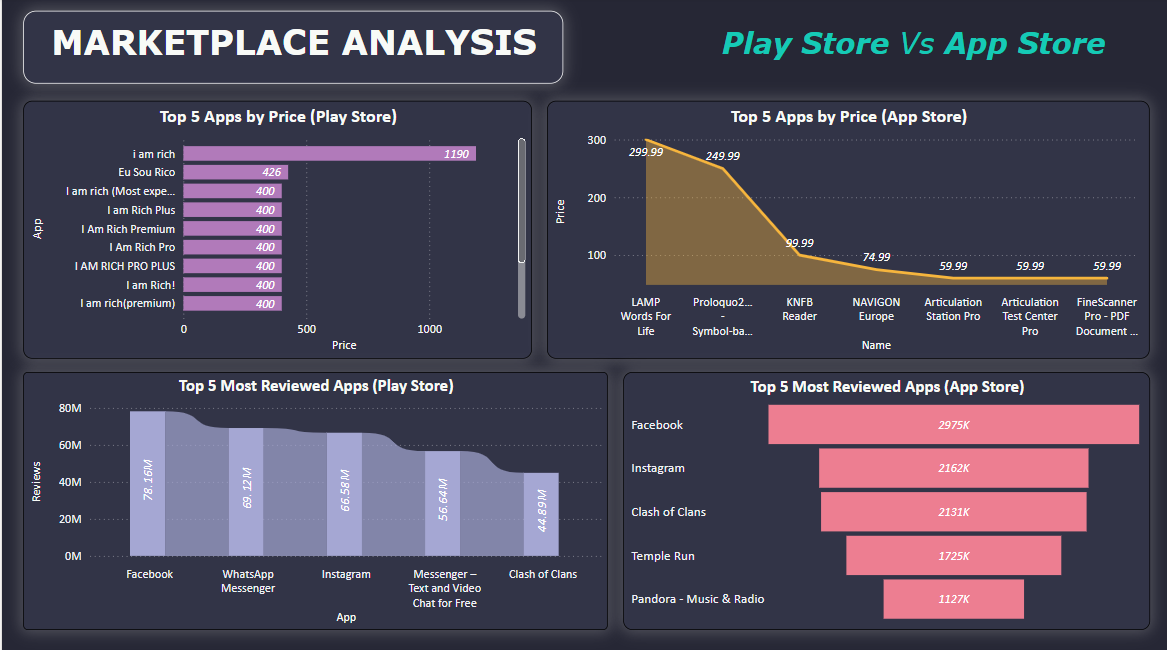

The page's visual inventory and layout, read from the dashboard file:
{"tool":"powerbi","page":{"name":"MarketPlace Analysis","canvas":[1280,720],"ordinal":2},"visuals":[{"type":"textbox","box":[22.9,15.7,592.9,80],"z":0},{"type":"clusteredBarChart","title":"Top 5 Apps by Price (Play Store)","fields":{"Category":["googleplaystore.App"],"Y":["Sum(googleplaystore.Price)"]},"box":[23.3,113.3,558.3,283.3],"z":1000},{"type":"areaChart","title":"Top 5 Apps by Price (App Store)","fields":{"Category":["AppleStore1.track_name"],"Y":["Sum(AppleStore1.price)"]},"box":[598.3,113.3,661.7,283.3],"z":2000},{"type":"funnel","title":"Top 5 Most Reviewed Apps (App Store)","fields":{"Category":["AppleStore1.track_name"],"Y":["Sum(AppleStore1.rating_count_tot)"]},"box":[681.4,411.4,578.6,282.9],"z":3000},{"type":"ribbonChart","title":"Top 5 Most Reviewed Apps (Play Store)","fields":{"Category":["googleplaystore.App"],"Y":["Sum(googleplaystore.Reviews)"]},"box":[22.9,411.4,641.4,282.9],"z":4000},{"type":"textbox","box":[761.4,25.7,478.6,60],"z":5000}]}

Visuals, with their boxes in screenshot pixels (x1, y1, x2, y2), scaled from the page's 1280x720 canvas onto the 1167x650 screenshot:
textbox: {"left": 21, "top": 14, "right": 561, "bottom": 86}
"Top 5 Apps by Price (Play Store)" clusteredBarChart: {"left": 21, "top": 102, "right": 530, "bottom": 358}
"Top 5 Apps by Price (App Store)" areaChart: {"left": 545, "top": 102, "right": 1149, "bottom": 358}
"Top 5 Most Reviewed Apps (App Store)" funnel: {"left": 621, "top": 371, "right": 1149, "bottom": 627}
"Top 5 Most Reviewed Apps (Play Store)" ribbonChart: {"left": 21, "top": 371, "right": 606, "bottom": 627}
textbox: {"left": 694, "top": 23, "right": 1131, "bottom": 77}
